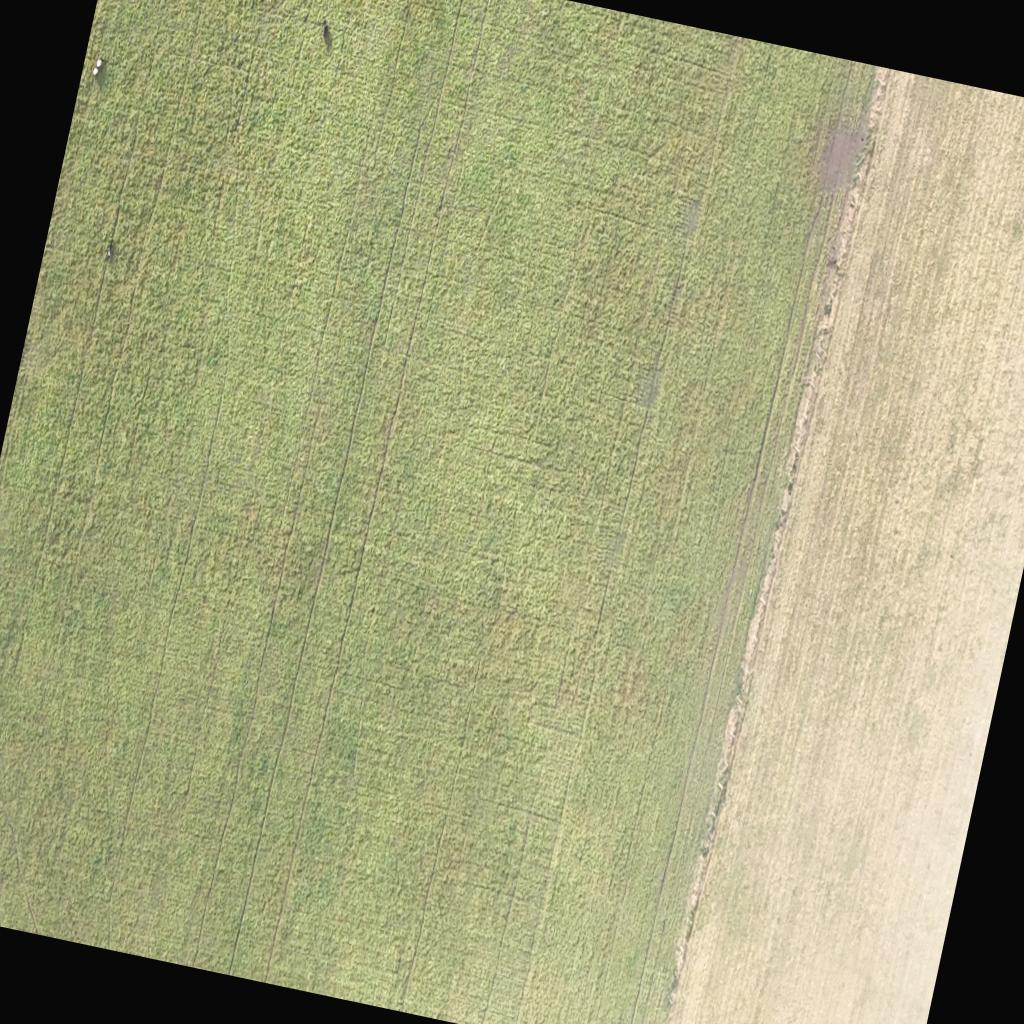cow: (91, 56, 104, 80), (104, 240, 116, 262), (319, 18, 330, 40)
